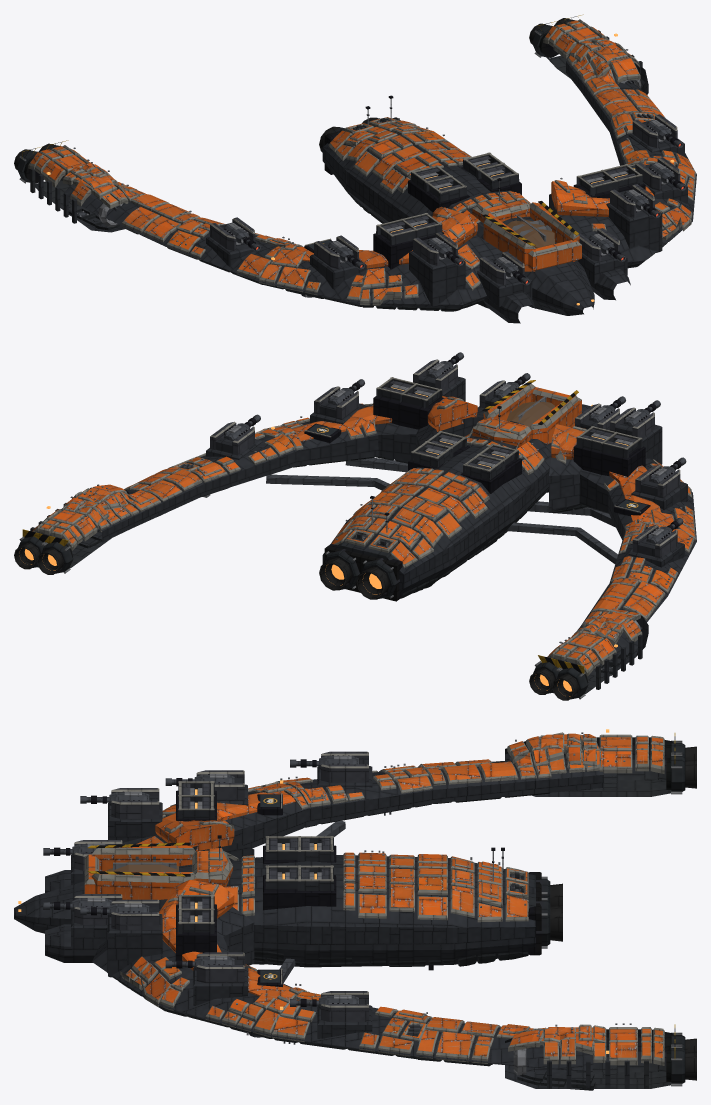
The model's file is saturn-schiff5.glb.
The picture shows the model from 3 angles, top to bottom: view 1: azimuth 30°, elevation 25°; view 2: azimuth 150°, elevation 25°; view 3: azimuth 270°, elevation 25°; orthographic projection. The views are drawn at different scales.
Parts seen in each view (by area): view 1: Hull_LOD0; view 2: Hull_LOD0, EngineLight; view 3: Hull_LOD0, Laser_03, Laser_08, Laser_04, Laser_05, Laser_01, Laser_07.
Part boxes in pixels (bbox=[...]): Hull_LOD0: bbox=[14, 14, 696, 323]; Hull_LOD0: bbox=[14, 359, 696, 700]; EngineLight: bbox=[21, 548, 571, 696]; Hull_LOD0: bbox=[14, 729, 696, 1090]; Laser_03: bbox=[80, 903, 149, 917]; Laser_08: bbox=[290, 755, 358, 769]; Laser_04: bbox=[80, 791, 149, 805]; Laser_05: bbox=[165, 956, 234, 969]; Laser_01: bbox=[43, 898, 112, 911]; Laser_07: bbox=[290, 995, 358, 1008].
Size of the model in its own units: 78.75 by 15.15 by 70.4.
Materials: 6 (4 with a texture image).
